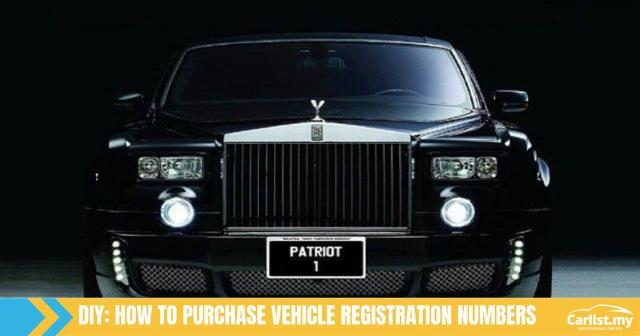License_Plate: (266, 237, 368, 280)
car: (89, 34, 565, 301)
